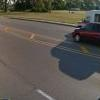Car: (62, 13, 100, 58)
